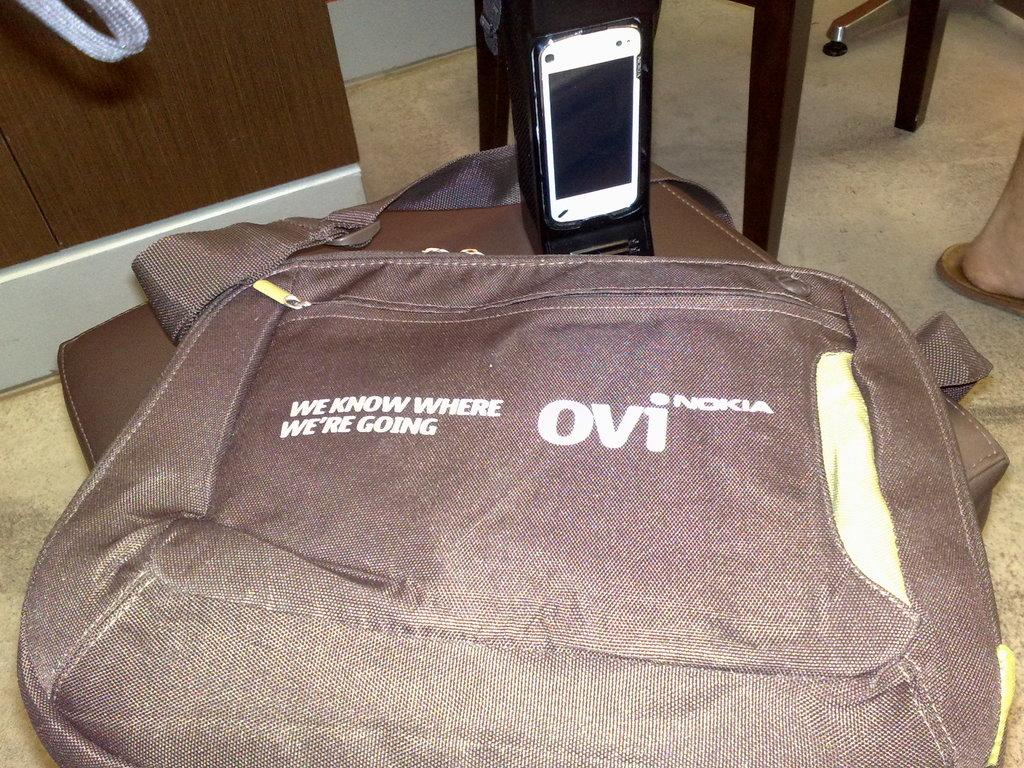Luggage-and-bags: (15, 143, 1007, 767)
